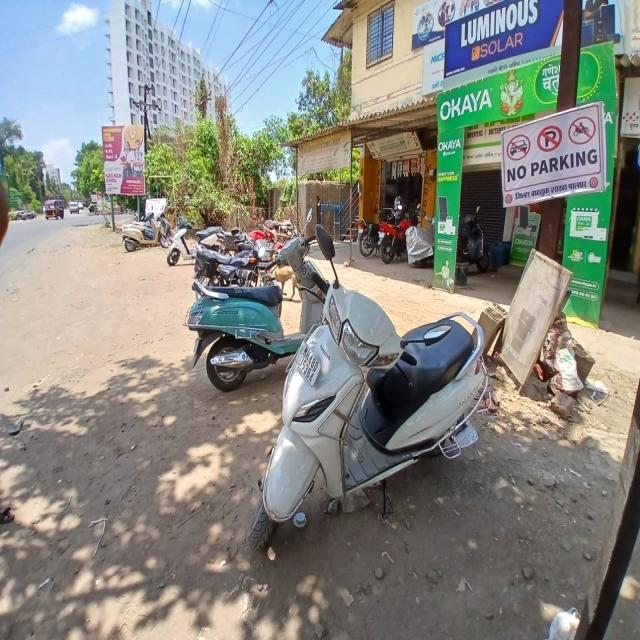illegalparking: (99, 91, 624, 575)
